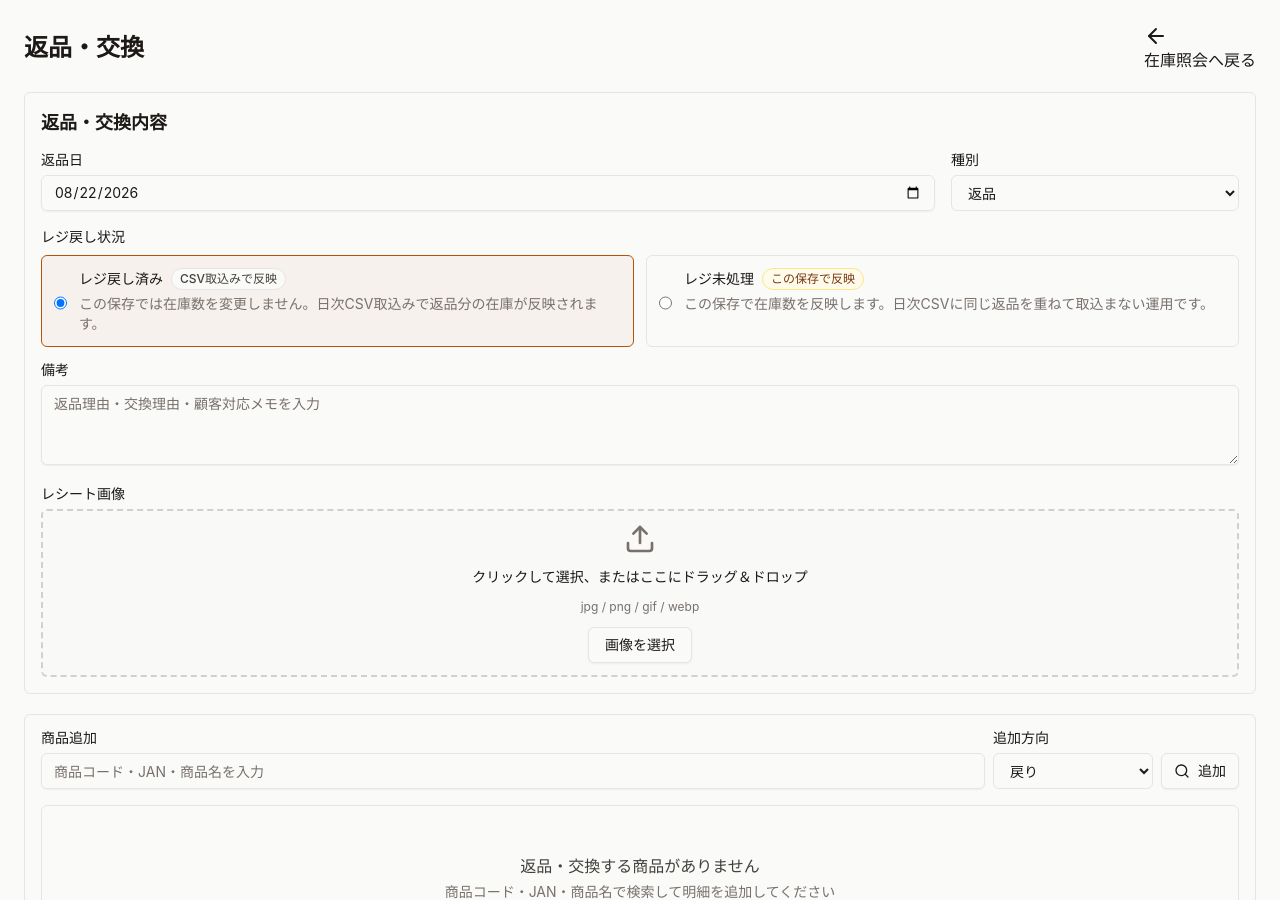
Test: ReturnExchangePage (UI-03 / REQ-202) › successful submit invalidates returns and stock keys only when register_processed=false
Type "RT-001" into the dropdown named "返品・交換商品検索" at (513, 771), box [41,753,985,789]
Then press Enter
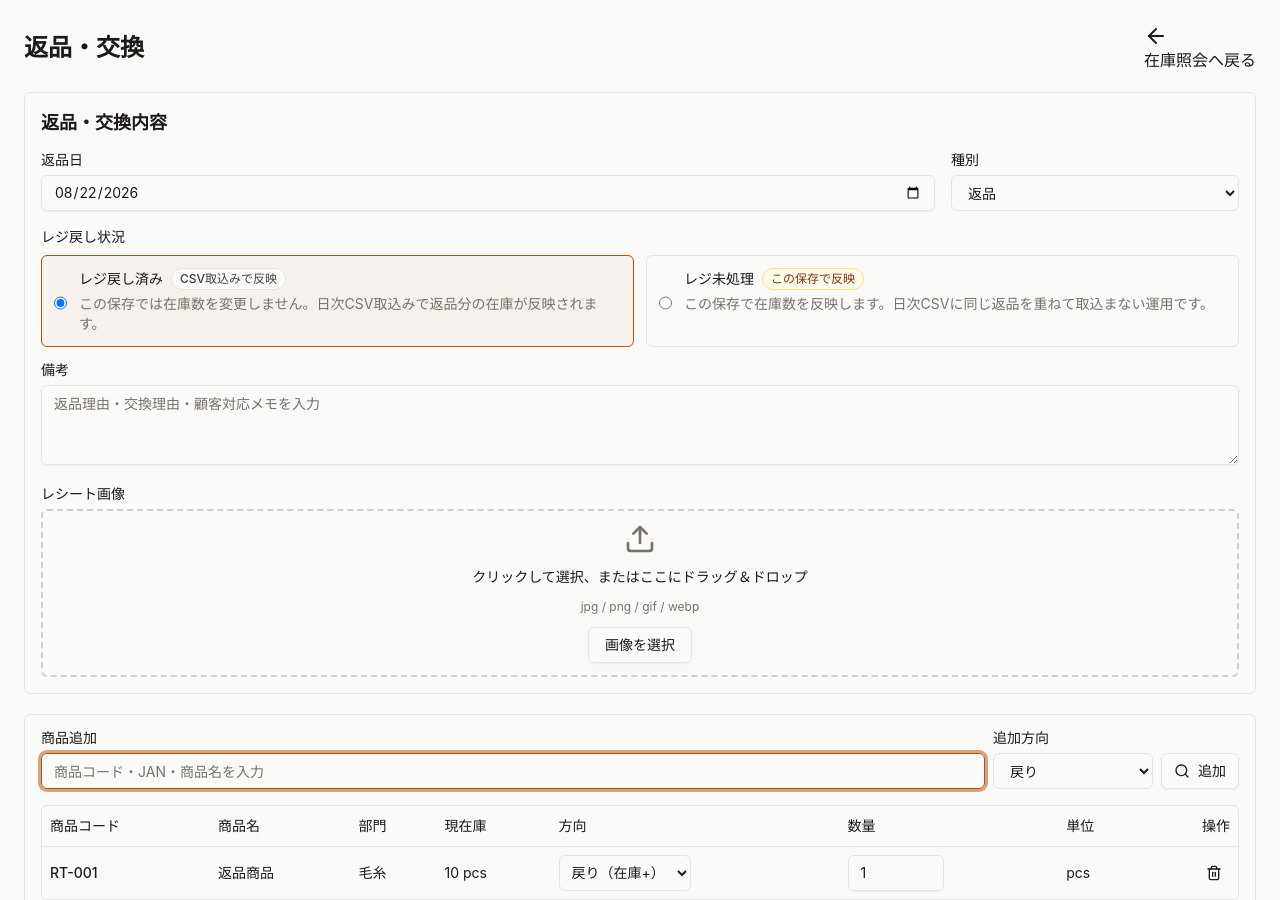
expect the text "RT-001" is shown: met, box [42,846,210,898]
Click the radio button labelled "レジ未処理" at (666, 303), box [659,272,672,334]
(page scrolled)
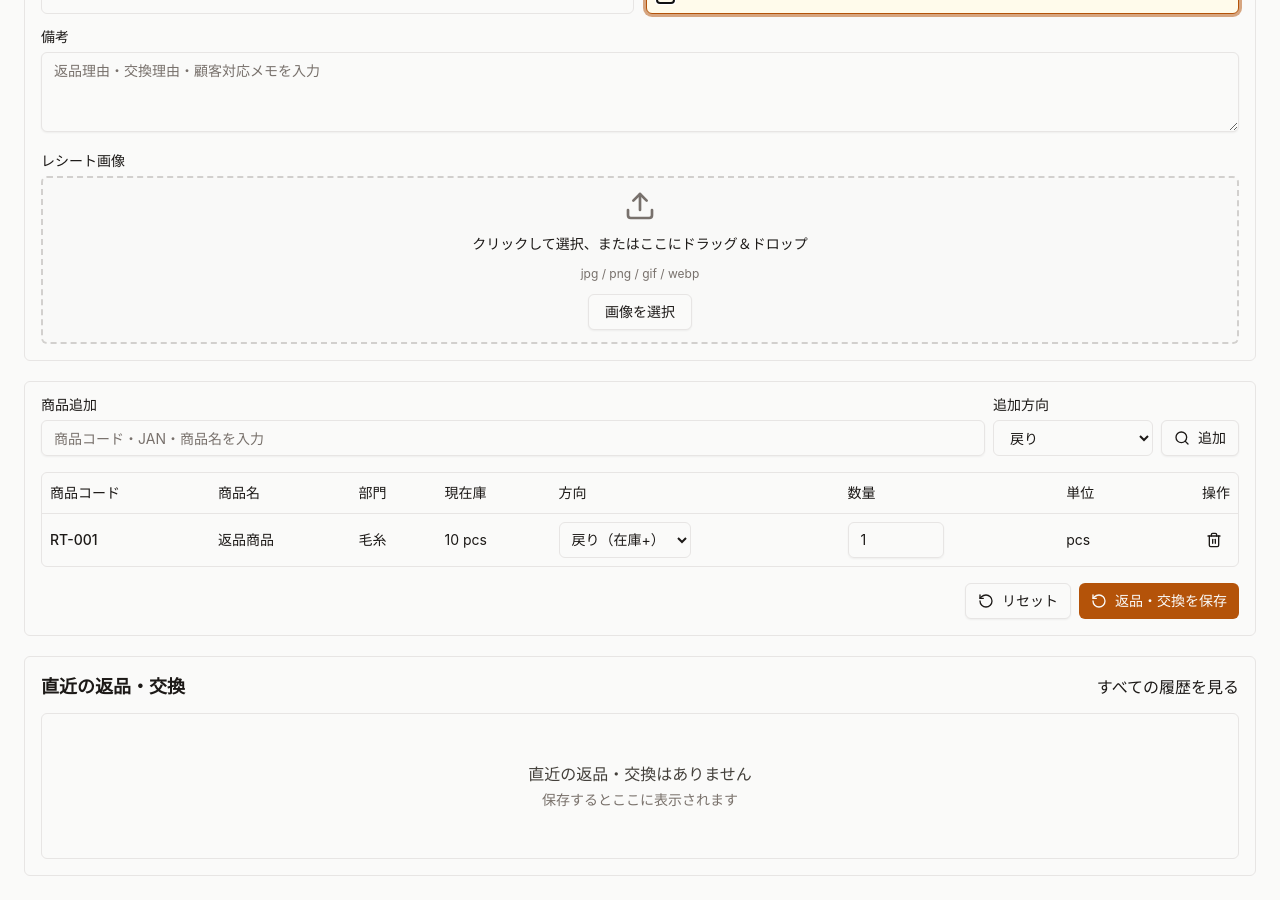
Click the button "返品・交換を保存" at (1159, 600), box [1079,582,1239,618]
(page scrolled)
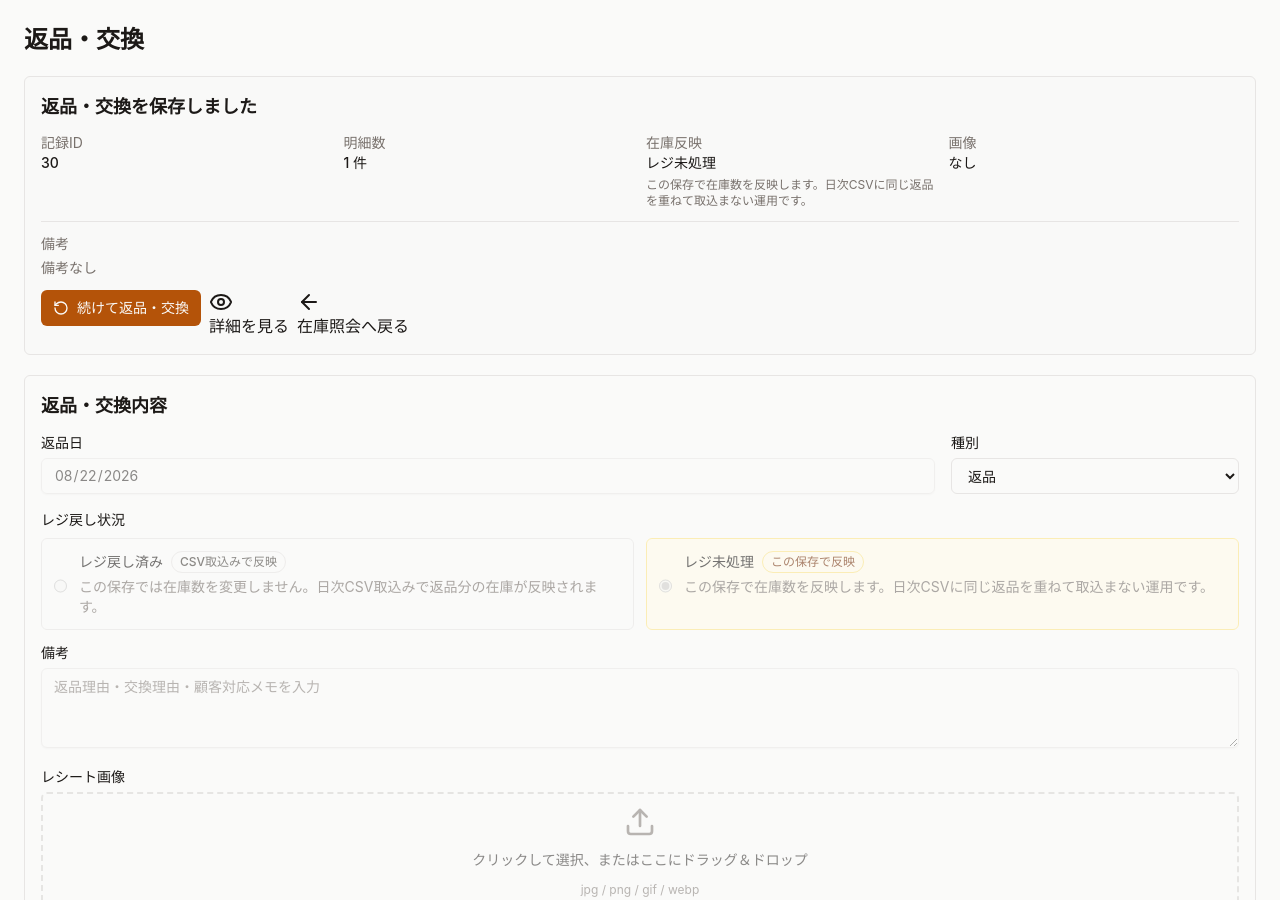
expect the heading "返品・交換を保存しました" is shown: met, box [41,93,257,121]
expect the text "この保存で在庫数を反映します。日次CSVに同じ返品を重ねて取込まない運用です。" below "在庫反映" is shown: met, box [646,177,934,208]
